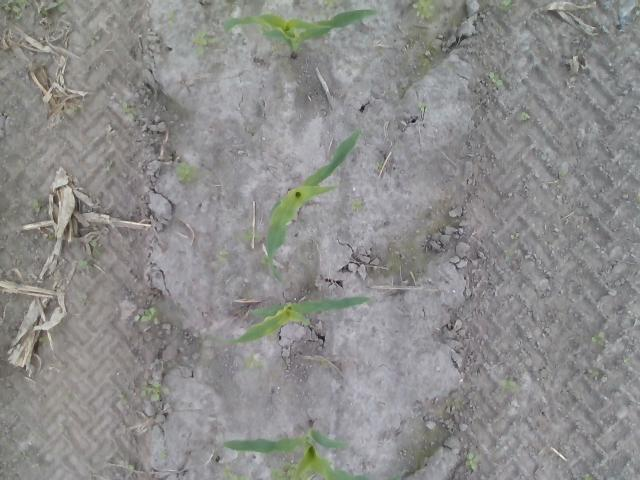Maize: (265, 128, 362, 282), (224, 419, 372, 480), (204, 294, 371, 344), (222, 8, 378, 60)
Weeds: (190, 30, 218, 56), (131, 305, 160, 324), (220, 462, 249, 480), (0, 0, 34, 14), (40, 0, 67, 17), (141, 382, 162, 402), (270, 463, 294, 480), (411, 0, 435, 17), (245, 352, 265, 369), (175, 164, 193, 182), (487, 72, 505, 89), (271, 263, 286, 283), (464, 451, 478, 472), (500, 376, 518, 390), (120, 103, 134, 120), (526, 48, 539, 66), (238, 230, 261, 240), (215, 248, 229, 264), (590, 330, 606, 344), (30, 192, 41, 212), (160, 447, 171, 467), (88, 30, 100, 48), (164, 10, 177, 25), (17, 449, 32, 462), (322, 0, 338, 12), (586, 368, 600, 381), (37, 335, 50, 348), (91, 243, 102, 258), (502, 248, 517, 259), (61, 106, 80, 114), (351, 198, 363, 210), (500, 0, 513, 11), (516, 110, 530, 120), (508, 231, 522, 240), (78, 259, 89, 270), (416, 104, 430, 112), (557, 167, 568, 177), (579, 472, 592, 480), (105, 158, 112, 172), (128, 464, 138, 472), (390, 473, 401, 480), (262, 255, 270, 264), (260, 10, 272, 15), (376, 160, 382, 168)
